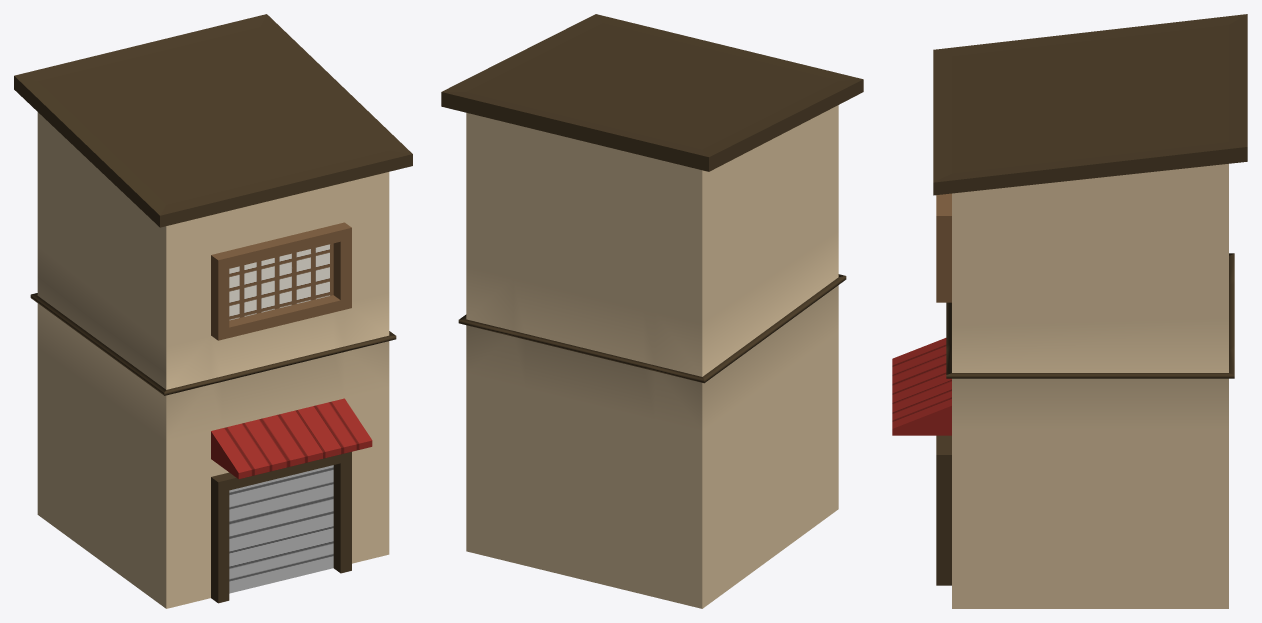
The model's file is building1.fbx.
3 renders of one model, left to right at view 1: azimuth 30°, elevation 25°; view 2: azimuth 150°, elevation 25°; view 3: azimuth 270°, elevation 25°, orthographic. The views are drawn at different scales.
Visible parts, largest first — view 1: building1; view 2: building1; view 3: building1.
Part boxes in pixels (x1,y1,x2,y2): building1: (14,14,412,608); building1: (441,14,863,608); building1: (892,14,1247,608).
Size of the model in its own units: 243 by 402 by 275.
